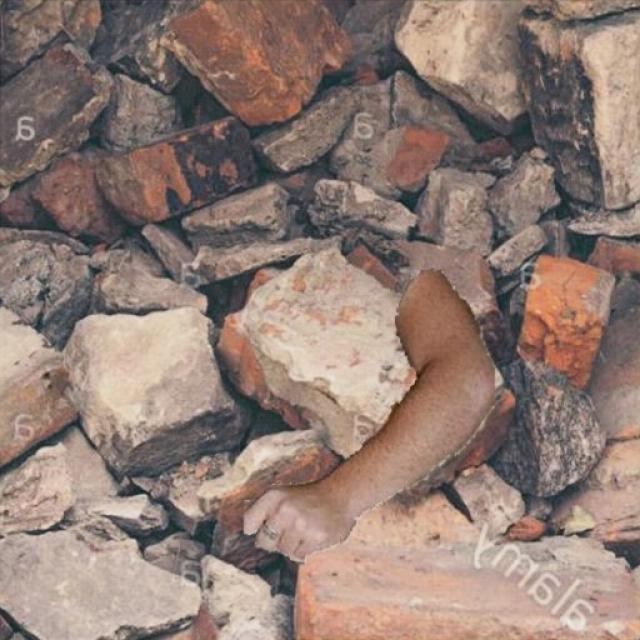Person in Rubble: (244, 268, 494, 562)
